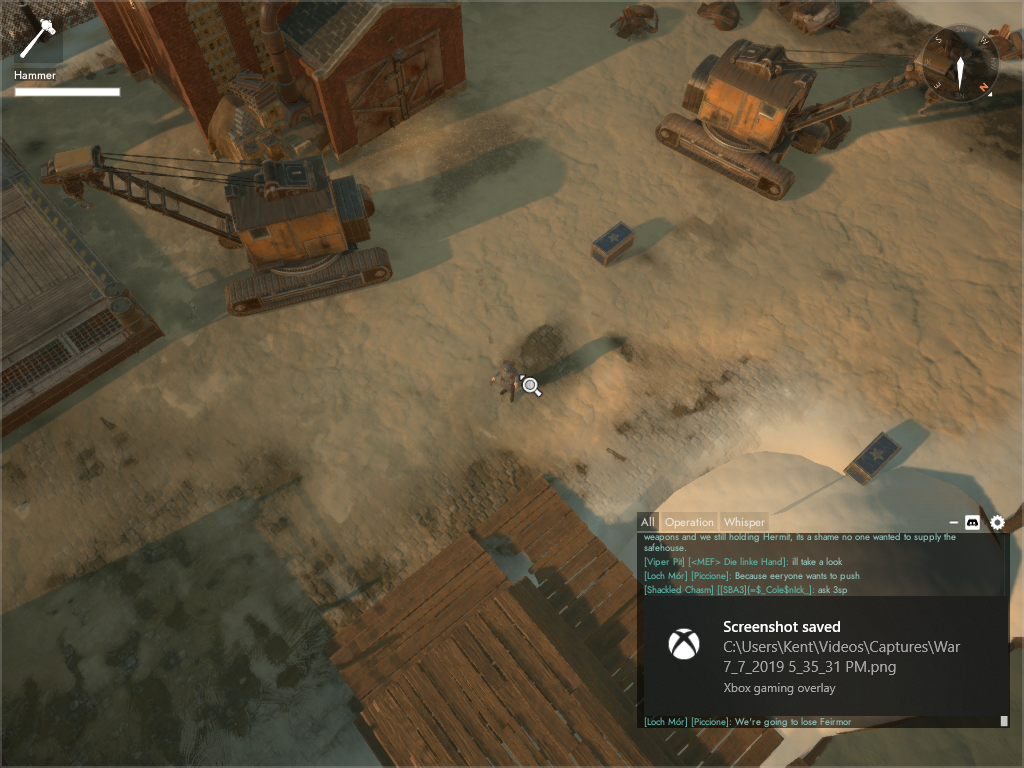crane: (39, 144, 393, 318), (656, 39, 972, 202)
player: (489, 360, 519, 403)
scrap: (918, 29, 986, 76), (611, 1, 664, 41), (982, 24, 1024, 62), (696, 1, 743, 30)
storage_box: (842, 429, 906, 487), (585, 218, 641, 270)
